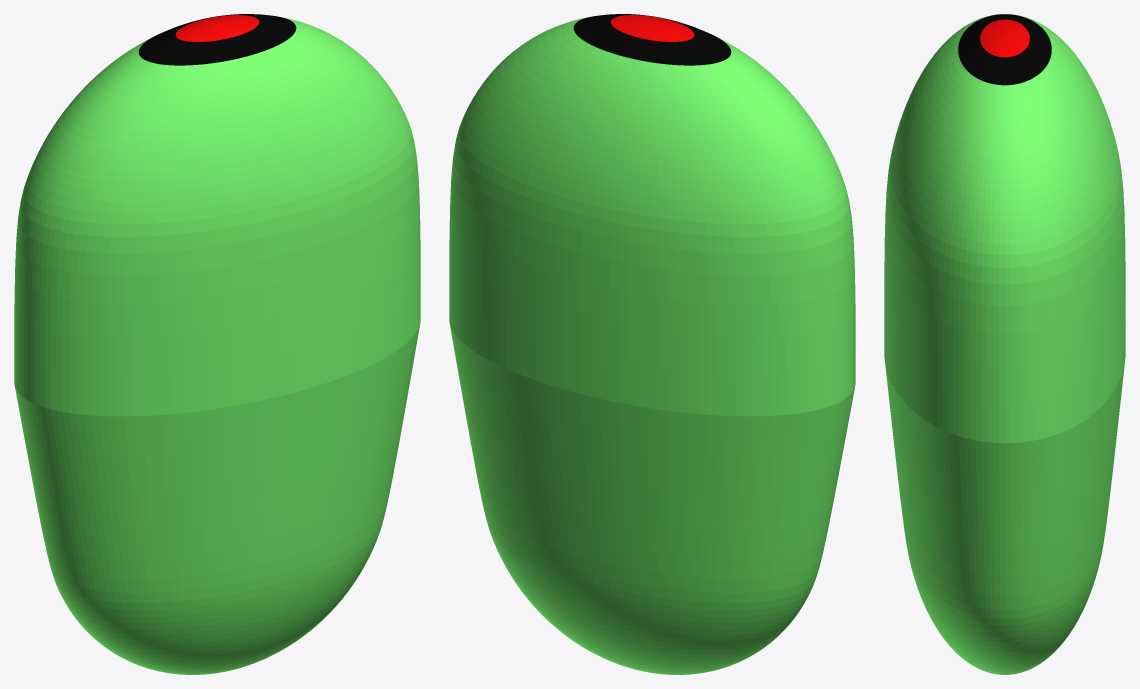
Rendered from snake_tail2.fbx.
3 renders of one model, left to right at view 1: azimuth 30°, elevation 25°; view 2: azimuth 150°, elevation 25°; view 3: azimuth 270°, elevation 25°, orthographic. The views are drawn at different scales.
Visible parts, largest first — view 1: Сфера; view 2: Сфера; view 3: Сфера.
Part boxes in pixels (left/top/right/bottom): Сфера: left=14, top=14, right=420, bottom=674; Сфера: left=449, top=14, right=855, bottom=674; Сфера: left=884, top=14, right=1125, bottom=674.
Size of the model in its own units: 62.87 by 99.83 by 34.99.
